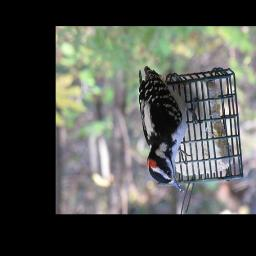Woodpecker: (139, 66, 202, 193)
